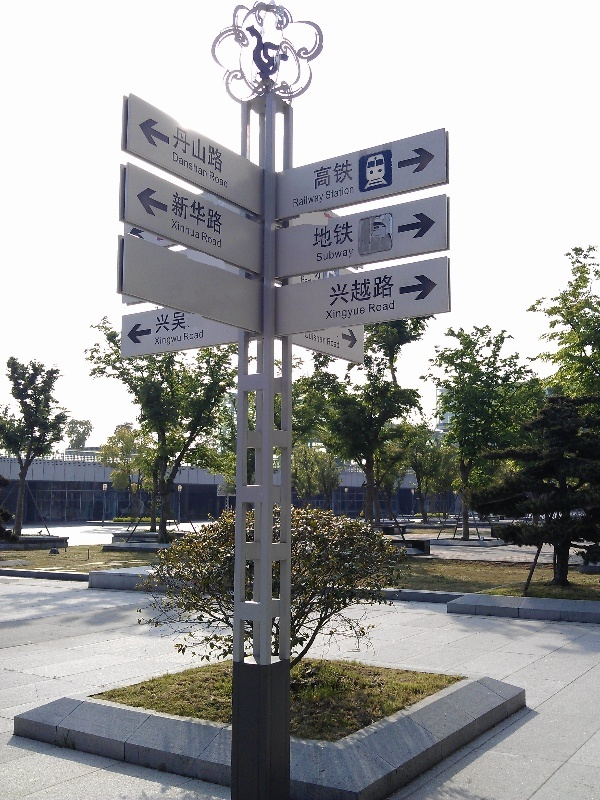text: (177, 125, 192, 175), (193, 125, 208, 175), (209, 125, 224, 175), (177, 190, 192, 237), (193, 190, 208, 237), (209, 190, 224, 237), (337, 273, 352, 308), (353, 273, 368, 308), (369, 273, 384, 308), (321, 158, 336, 191), (337, 158, 352, 191), (321, 220, 336, 250), (337, 220, 352, 250), (177, 151, 192, 179), (193, 151, 208, 179), (161, 310, 176, 335), (385, 273, 395, 308), (177, 218, 192, 240), (321, 246, 336, 265), (337, 246, 352, 265), (337, 304, 352, 323), (305, 192, 320, 210), (353, 304, 367, 323), (210, 171, 224, 190), (209, 231, 223, 250), (177, 310, 187, 335), (312, 220, 320, 250), (313, 158, 320, 191), (305, 330, 320, 345), (161, 333, 176, 348), (337, 185, 352, 200), (330, 273, 336, 308), (369, 300, 384, 314), (293, 192, 304, 210), (326, 304, 336, 323), (193, 218, 201, 240), (385, 300, 397, 314), (173, 125, 176, 175), (326, 185, 336, 200), (193, 330, 205, 342), (173, 190, 176, 237), (155, 310, 160, 335), (202, 231, 208, 250), (184, 330, 192, 342), (172, 218, 176, 240), (328, 338, 336, 349), (173, 151, 176, 179), (316, 246, 320, 265), (225, 171, 229, 190), (321, 330, 326, 345), (155, 333, 160, 348), (177, 333, 182, 348), (321, 192, 325, 210), (305, 275, 312, 283), (313, 273, 320, 280), (353, 158, 354, 191), (337, 338, 340, 349), (353, 220, 354, 250), (353, 185, 355, 200), (301, 275, 304, 283), (353, 246, 354, 265)
